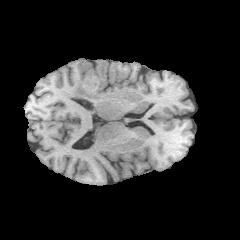glioma: (74, 63, 114, 100)
